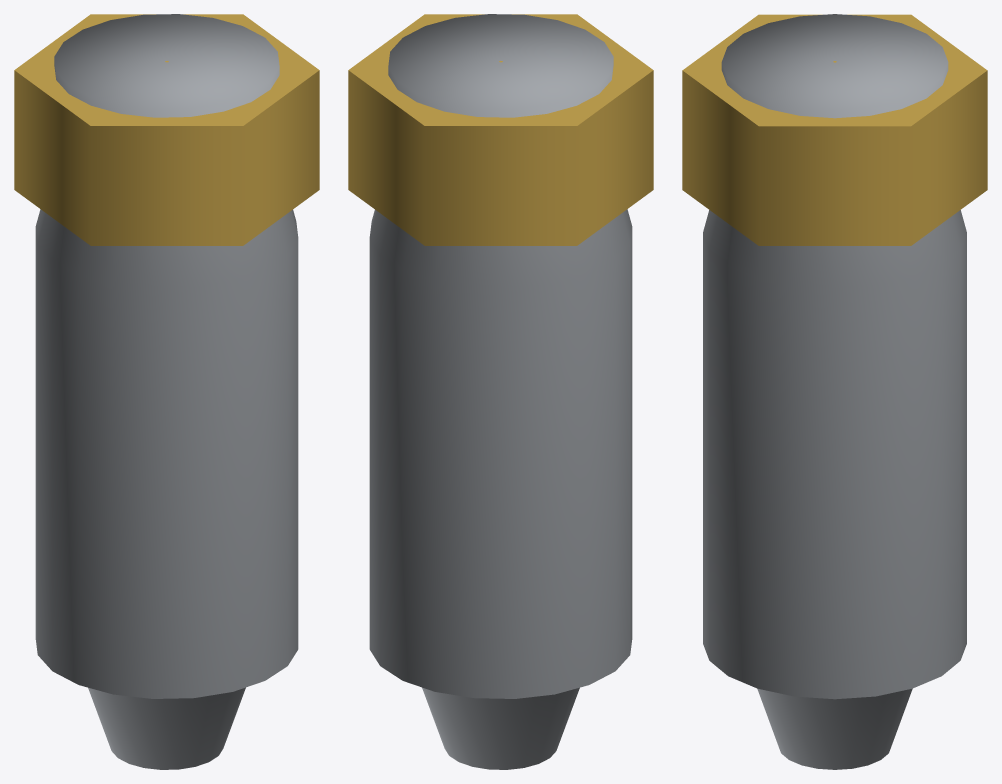
Rendered from injector.glb.
3 views of the same model, side by side, from view 1: azimuth 30°, elevation 25°; view 2: azimuth 150°, elevation 25°; view 3: azimuth 270°, elevation 25° (orthographic).
Parts seen in each view (by area): view 1: injector:steel, injector:brass; view 2: injector:steel, injector:brass; view 3: injector:steel, injector:brass.
Boxes of the visible parts, <box> form: injector:steel: <box>35,14,298,769</box>; injector:brass: <box>14,14,319,245</box>; injector:steel: <box>369,14,632,769</box>; injector:brass: <box>348,14,653,245</box>; injector:steel: <box>703,14,966,769</box>; injector:brass: <box>682,14,987,245</box>.
Size of the model in its own units: 14 by 40 by 16.17.
